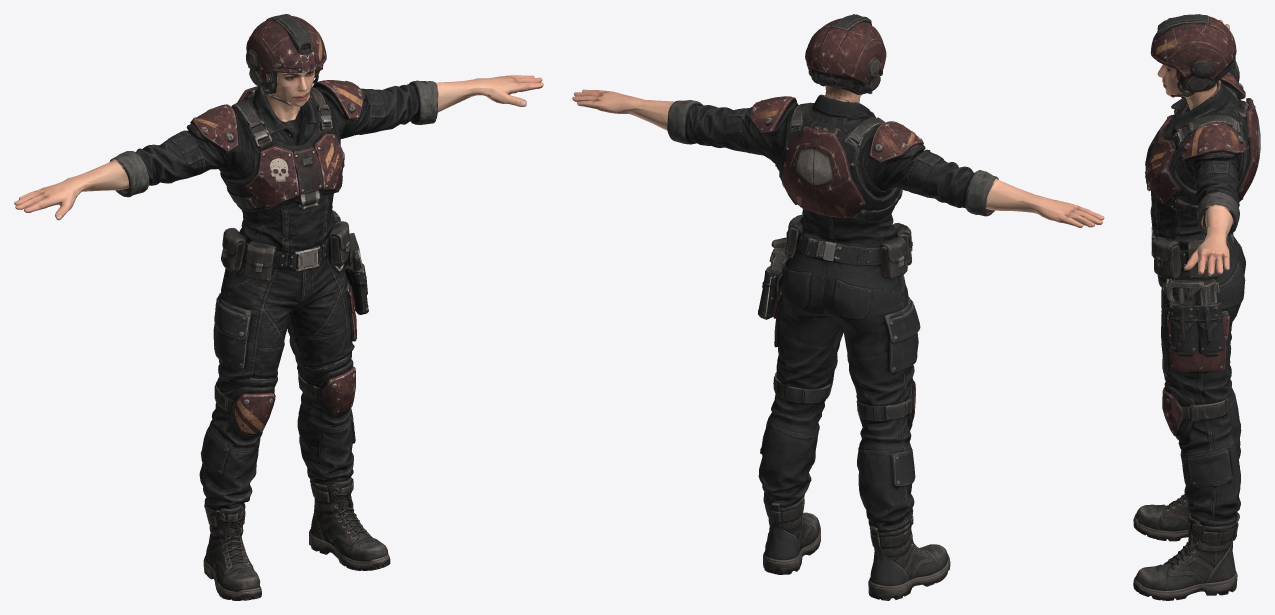
The model's file is aeon-flanker.glb.
The picture shows the model from 3 angles, left to right: view 1: azimuth 30°, elevation 25°; view 2: azimuth 150°, elevation 25°; view 3: azimuth 270°, elevation 25°; orthographic projection.
Parts seen in each view (by area): view 1: mesh_node; view 2: mesh_node; view 3: mesh_node.
Boxes of the visible parts, x1,y1,x2,y2 form: mesh_node: (14, 14, 543, 600); mesh_node: (572, 14, 1104, 600); mesh_node: (1133, 14, 1260, 600).
Bounding box in the file's own units: 1.9 × 1.9 × 0.4008.
Materials: 1 (1 with a texture image).
